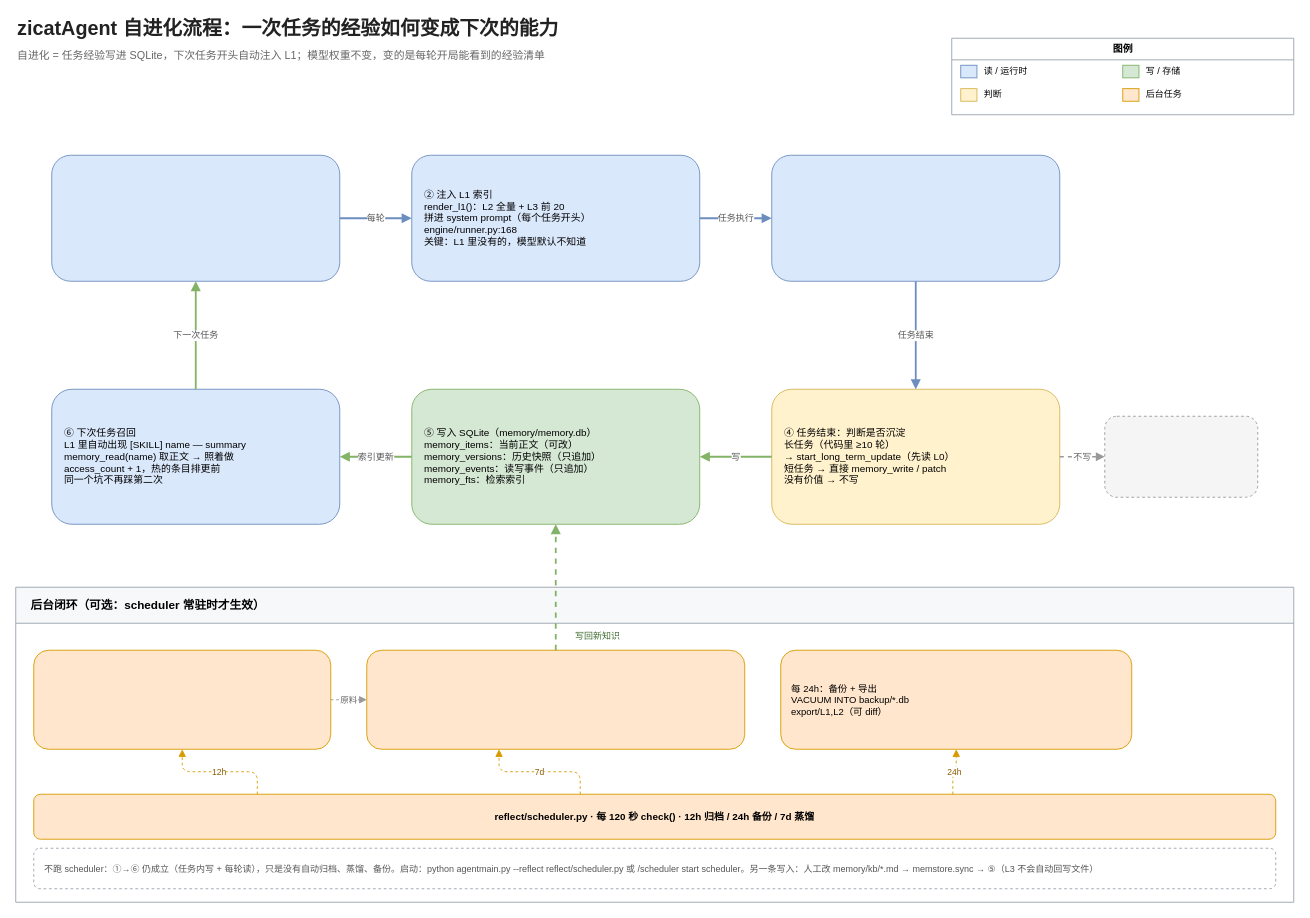
The diagram is 1310 pixels wide and 918 high, and some of its shapes have lost their labels. The shapes that lost their labels are listed below. From the top down, each one's centre as x and y in pixels, then its label:
At point 195,217: "① 任务开始 用户提问 / 新会话 此时模型还没有本次任务的经验".
At point 915,217: "③ 执行任务 调工具干活：code_run / browser / file 需要细节时 memory_read 读 SOP 正文 踩坑 → 排查 → 验证成功".
At point 1181,456: "结束 本次不写记忆".
At point 182,699: "每 12h：L4 归档 temp/model_responses/*.txt → memory/L4_raw_sessions/".
At point 555,699: "每 7d：记忆蒸馏 读 salient_mining_sop 从近 7 天 L4 挖新知识 memory_write / patch 写回 ⑤".
